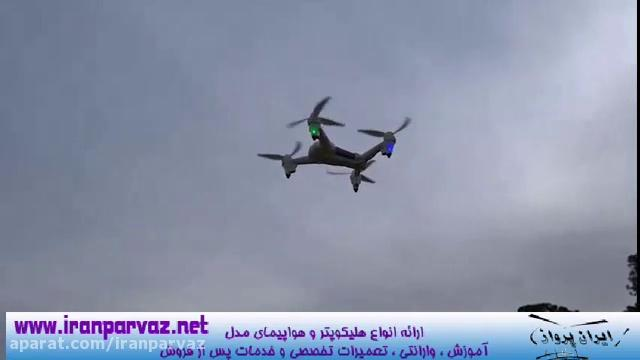drone: (252, 93, 416, 195)
